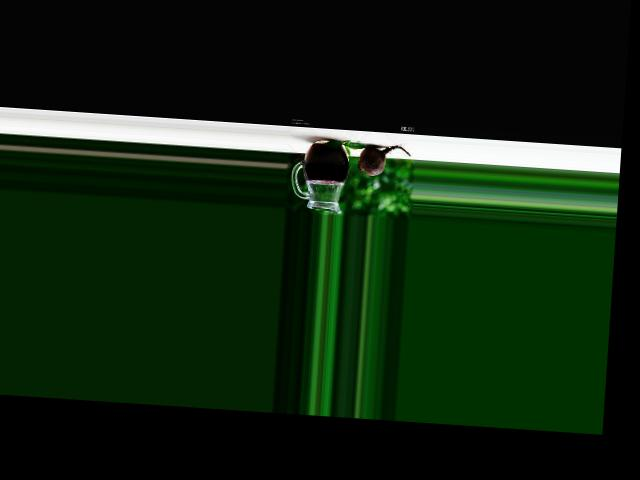beet: (356, 142, 410, 177)
